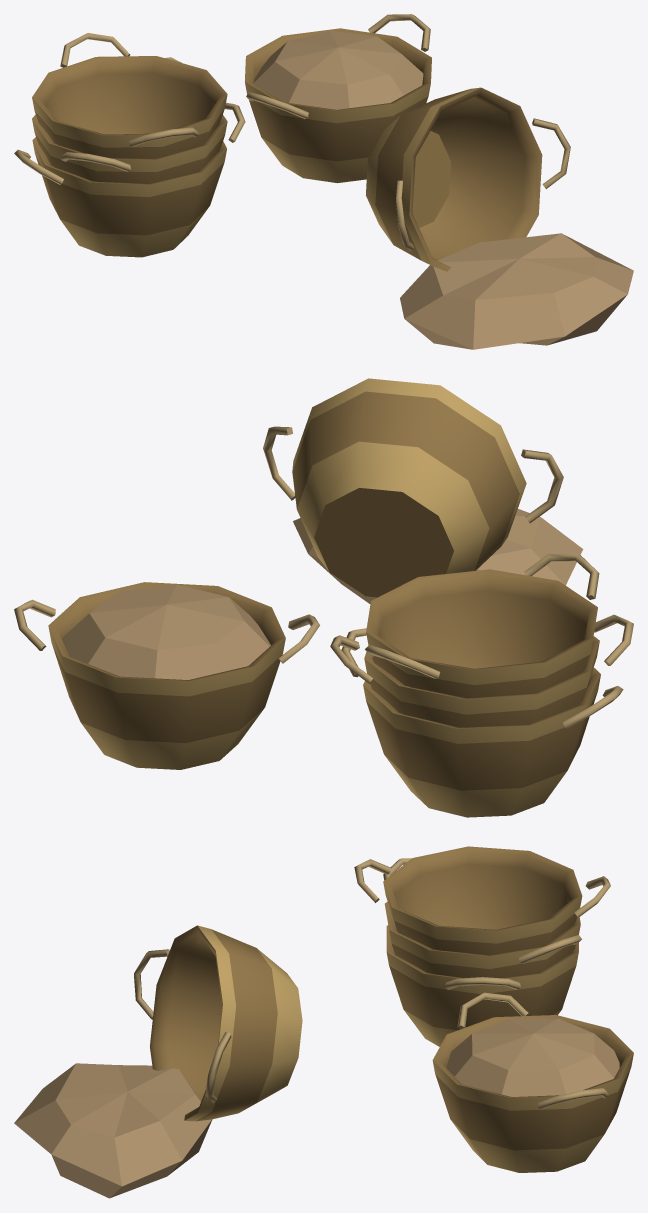
File: dig_baskets.glb
The picture shows the model from 3 angles, top to bottom: view 1: azimuth 30°, elevation 25°; view 2: azimuth 150°, elevation 25°; view 3: azimuth 270°, elevation 25°; orthographic projection. The views are drawn at different scales.
Visible parts, largest first — view 1: dig_baskets; view 2: dig_baskets; view 3: dig_baskets.
Boxes of the visible parts, x1,y1,x2,y2 form: dig_baskets: (14,14,633,349); dig_baskets: (14,378,633,817); dig_baskets: (14,846,633,1198).
Size of the model in its own units: 1.05 by 0.459 by 1.23.
